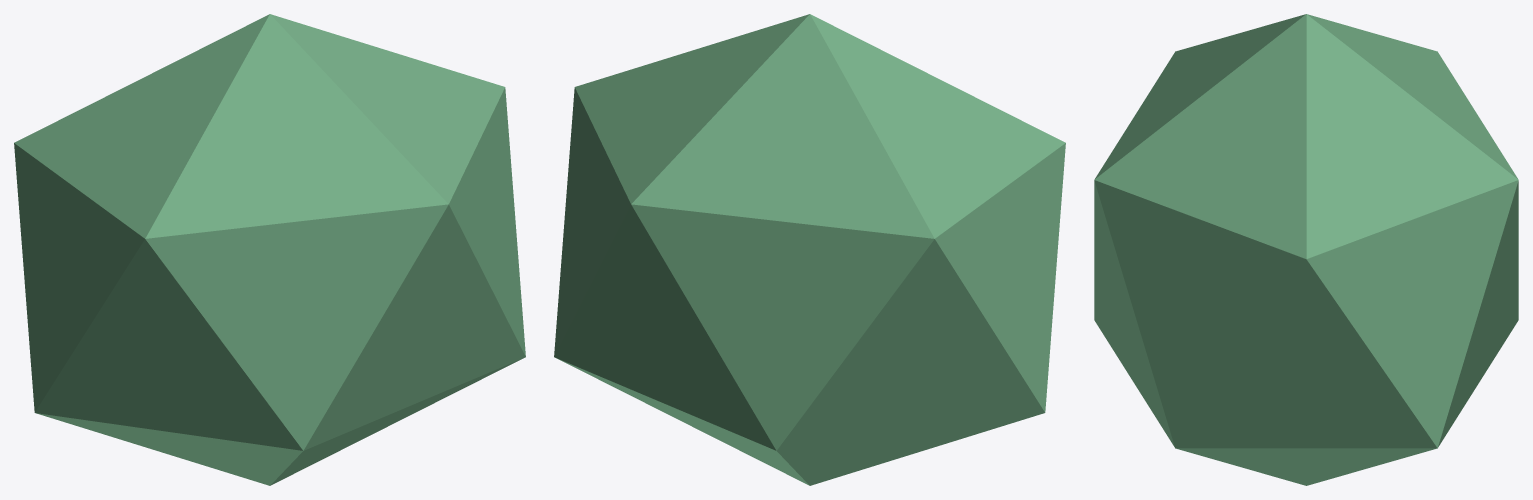
Rendered from sea_glass.glb.
3 views of the same model, side by side, from view 1: azimuth 30°, elevation 25°; view 2: azimuth 150°, elevation 25°; view 3: azimuth 270°, elevation 25° (orthographic).
Parts seen in each view (by area): view 1: mineral; view 2: mineral; view 3: mineral.
Boxes of the visible parts, x1,y1,x2,y2 form: mineral: [14, 14, 525, 485]; mineral: [554, 14, 1065, 485]; mineral: [1094, 14, 1518, 485].
Bounding box in the file's own units: 0.5009 × 0.48 × 0.3913.
